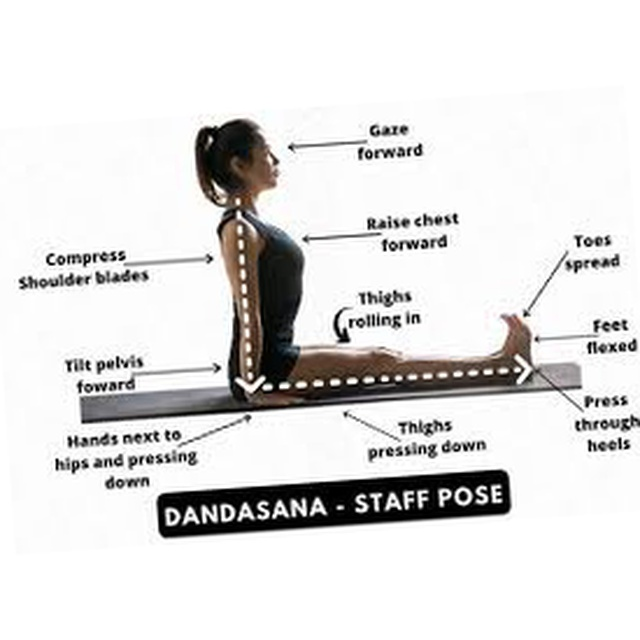Staff_Pose: (195, 117, 536, 410)
